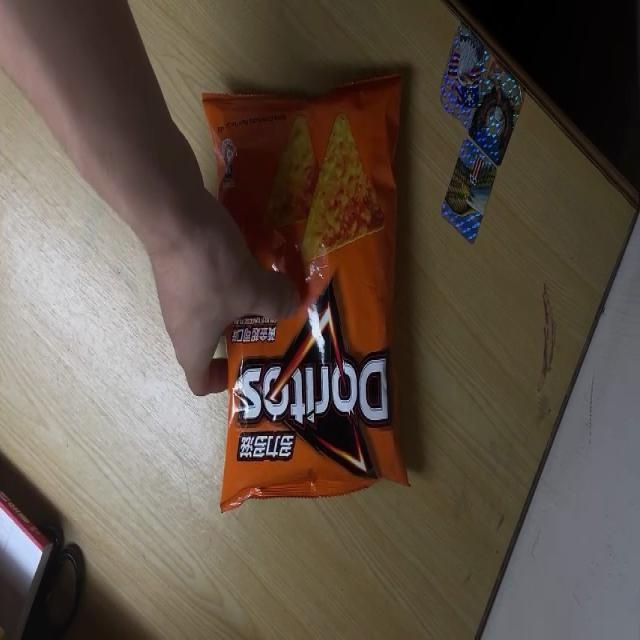Doritos: (200, 76, 411, 511)
